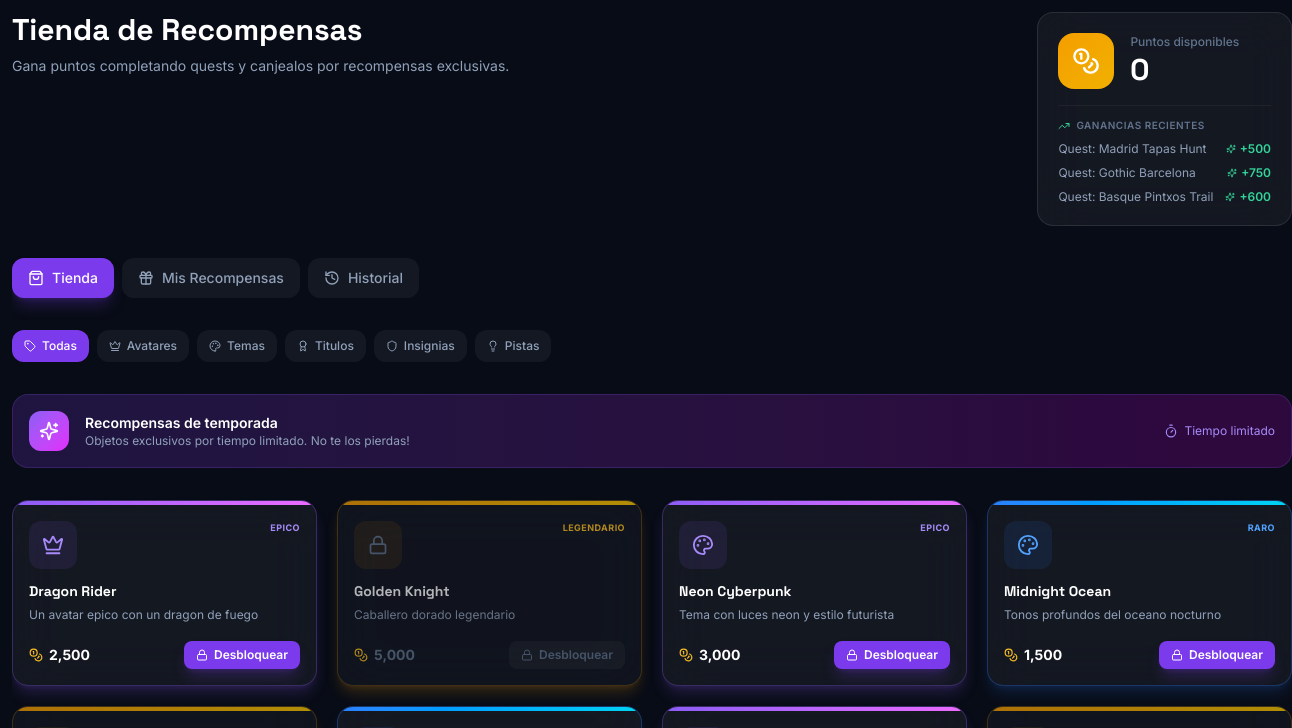
Test: RewardsPage › shows all categories when clicking Todas after filtering
Click the button "Avatares". click: (143, 346)
box: top-left (97, 330), bottom-right (189, 362)
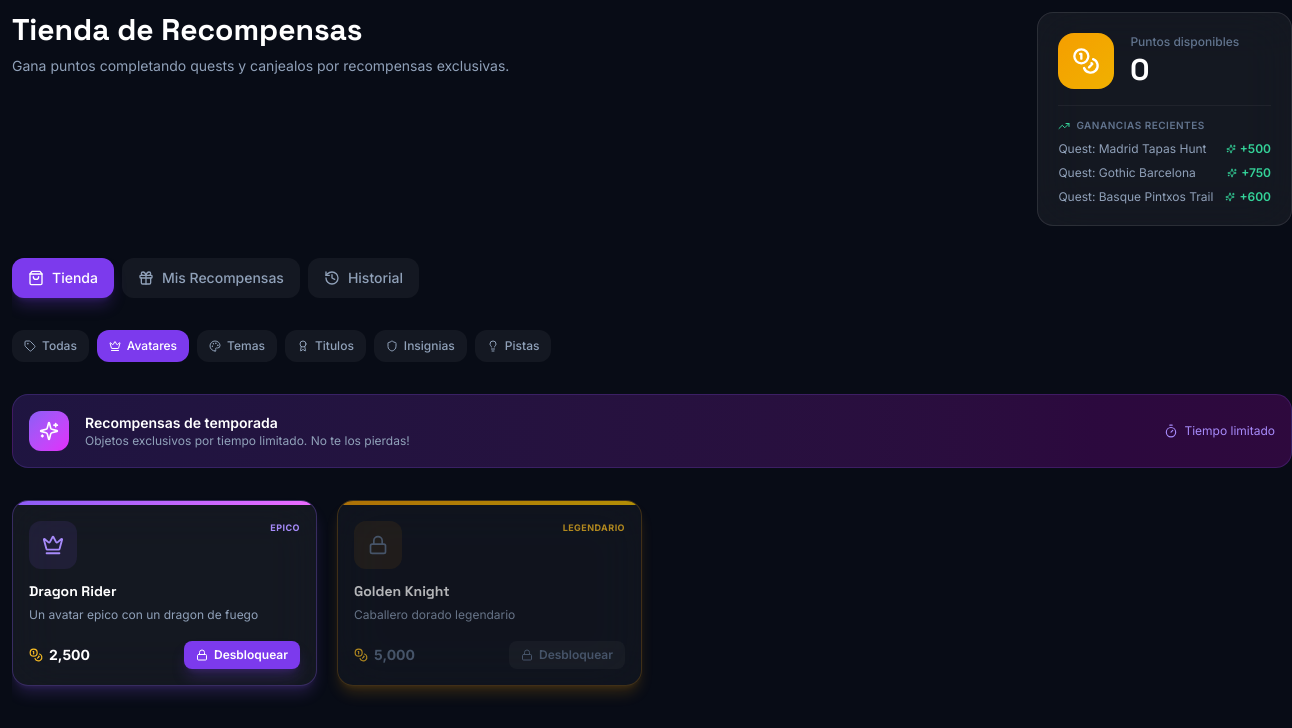
Click the button "Todas". click: (50, 346)
box: top-left (12, 330), bottom-right (89, 362)
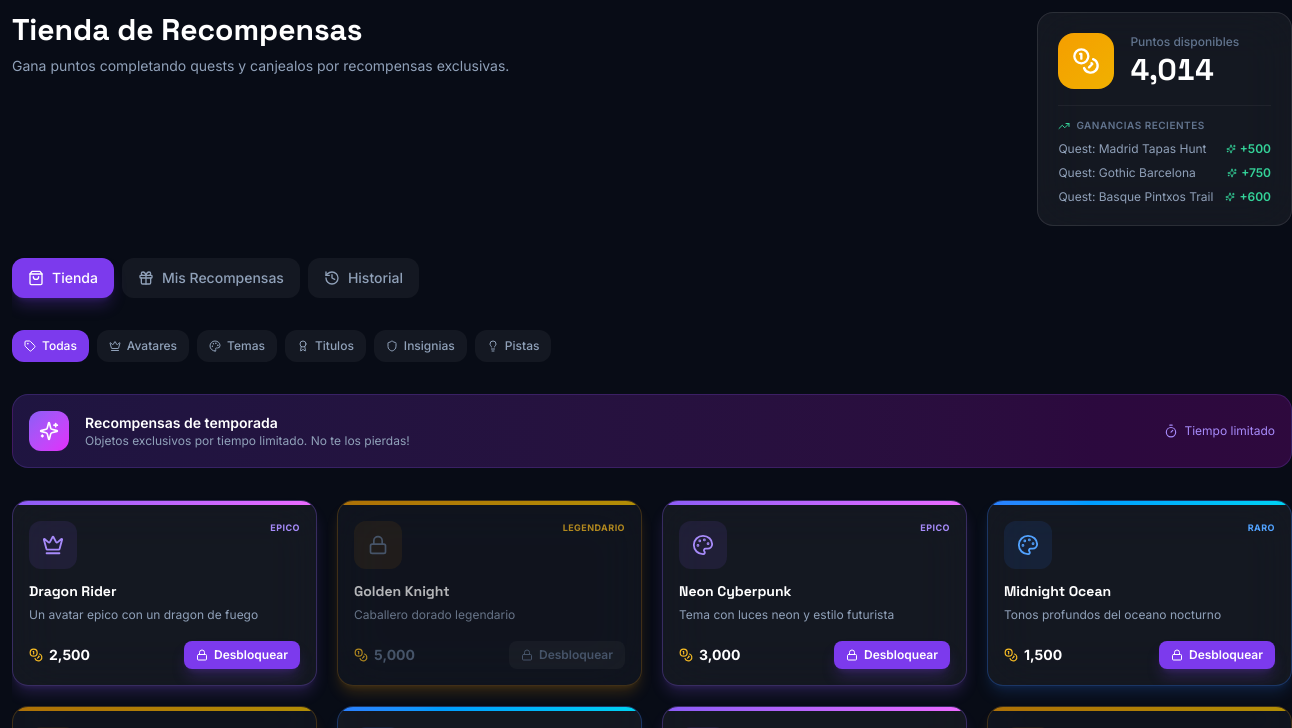
Expected: the heading "Neon Cyberpunk" is shown, top-left (679, 582), bottom-right (792, 600)
